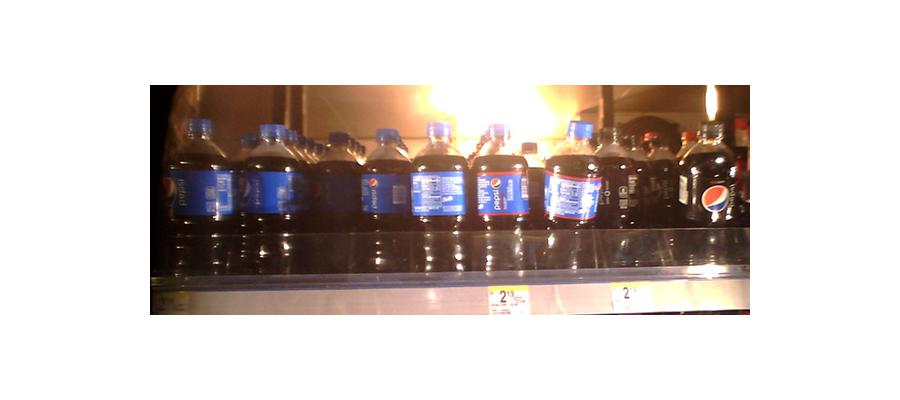bottle: (163, 99, 234, 285), (671, 101, 741, 267), (233, 121, 308, 275), (470, 122, 534, 277), (411, 118, 471, 277), (540, 129, 602, 273), (360, 123, 412, 274), (311, 128, 361, 274), (630, 125, 678, 249)
